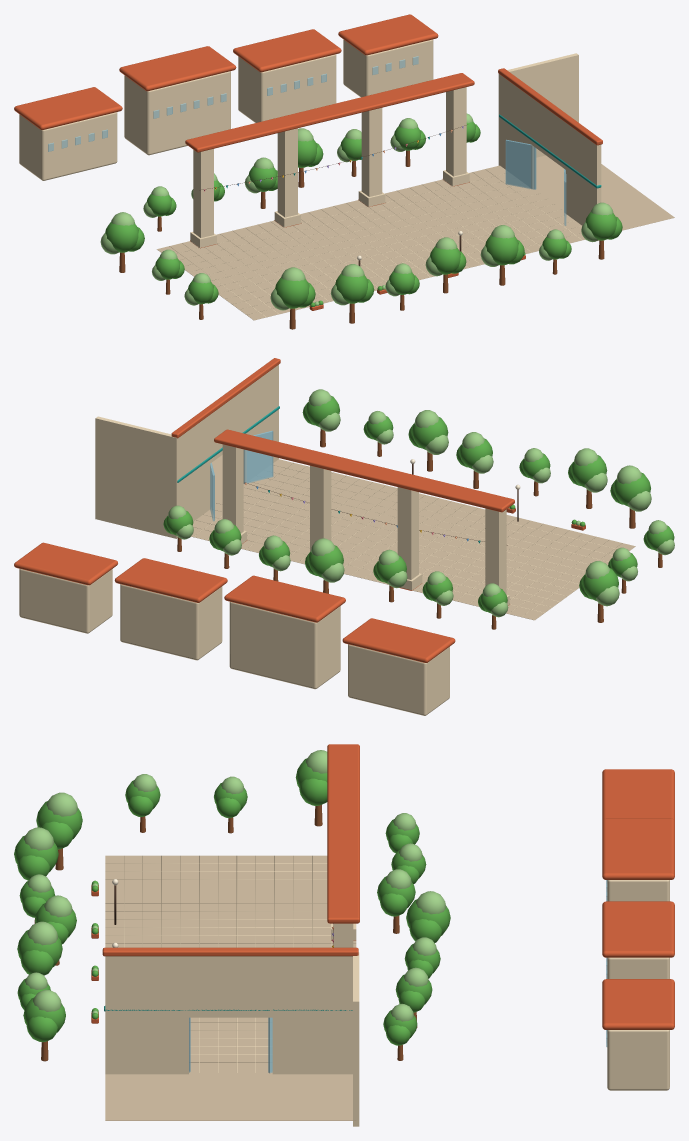
The model's file is icc_outside.glb.
3 views of the same model, one above another, from view 1: azimuth 30°, elevation 25°; view 2: azimuth 150°, elevation 25°; view 3: azimuth 270°, elevation 25° (orthographic). The views are drawn at different scales.
Visible parts, largest first — view 1: Floor-col.007, Pillars.001, Wall.002, Block1.004, Block0.004, Block2.004, ColonnadeRoof, Block3.003, Block1Roof.004, Wall.003, Block2Roof.004, Block0Roof.004 (+11 smaller); view 2: Floor-col.007, Wall.003, Block1.004, Pillars.001, Wall.002, Block2.004, Block0.004, ColonnadeRoof, Block3.003, Block1Roof.004, Block0Roof.004, Block2Roof.004 (+10 smaller); view 3: Floor-col.007, Wall.002, ColonnadeRoof, Block1Roof.004, Block2Roof.004, Block3.003, Block3Roof.003, Block0Roof.004, FacadeTrim, Block1.004, Block2.004, Wall.003 (+12 smaller).
Boxes of the visible parts, x1=… form: Floor-col.007: x1=157, y1=155, x2=674, y2=320; Pillars.001: x1=190, y1=87, x2=469, y2=247; Wall.002: x1=501, y1=75, x2=601, y2=240; Block1.004: x1=124, y1=71, x2=230, y2=155; Block0.004: x1=19, y1=112, x2=117, y2=180; Block2.004: x1=238, y1=54, x2=336, y2=122; ColonnadeRoof: x1=185, y1=73, x2=474, y2=152; Block3.003: x1=343, y1=39, x2=433, y2=97; Block1Roof.004: x1=119, y1=46, x2=236, y2=91; Wall.003: x1=498, y1=53, x2=578, y2=165; Block2Roof.004: x1=233, y1=29, x2=341, y2=72; Block0Roof.004: x1=14, y1=87, x2=122, y2=129; Floor-col.007: x1=191, y1=455, x2=635, y2=620; Wall.003: x1=95, y1=416, x2=178, y2=538; Block1.004: x1=229, y1=601, x2=340, y2=689; Pillars.001: x1=222, y1=444, x2=509, y2=605; Wall.002: x1=179, y1=364, x2=278, y2=521; Block2.004: x1=120, y1=584, x2=222, y2=660; Block0.004: x1=348, y1=644, x2=449, y2=715; ColonnadeRoof: x1=214, y1=429, x2=514, y2=512; Block3.003: x1=19, y1=569, x2=112, y2=633; Block1Roof.004: x1=224, y1=575, x2=345, y2=622; Block0Roof.004: x1=342, y1=618, x2=455, y2=662; Block2Roof.004: x1=114, y1=558, x2=227, y2=602; Floor-col.007: x1=105, y1=855, x2=356, y2=1120; Wall.002: x1=105, y1=956, x2=352, y2=1074; ColonnadeRoof: x1=327, y1=744, x2=359, y2=923; Block1Roof.004: x1=602, y1=818, x2=674, y2=879; Block2Roof.004: x1=602, y1=901, x2=674, y2=957; Block3.003: x1=607, y1=1030, x2=669, y2=1090; Block3Roof.003: x1=602, y1=979, x2=674, y2=1029; Block0Roof.004: x1=602, y1=769, x2=674, y2=821; FacadeTrim: x1=102, y1=947, x2=358, y2=956; Block1.004: x1=607, y1=880, x2=669, y2=901; Block2.004: x1=607, y1=957, x2=669, y2=978; Wall.003: x1=353, y1=952, x2=359, y2=1126.
Size of what is drawn, in the model's own units: 57.99 by 12 by 52.67.
